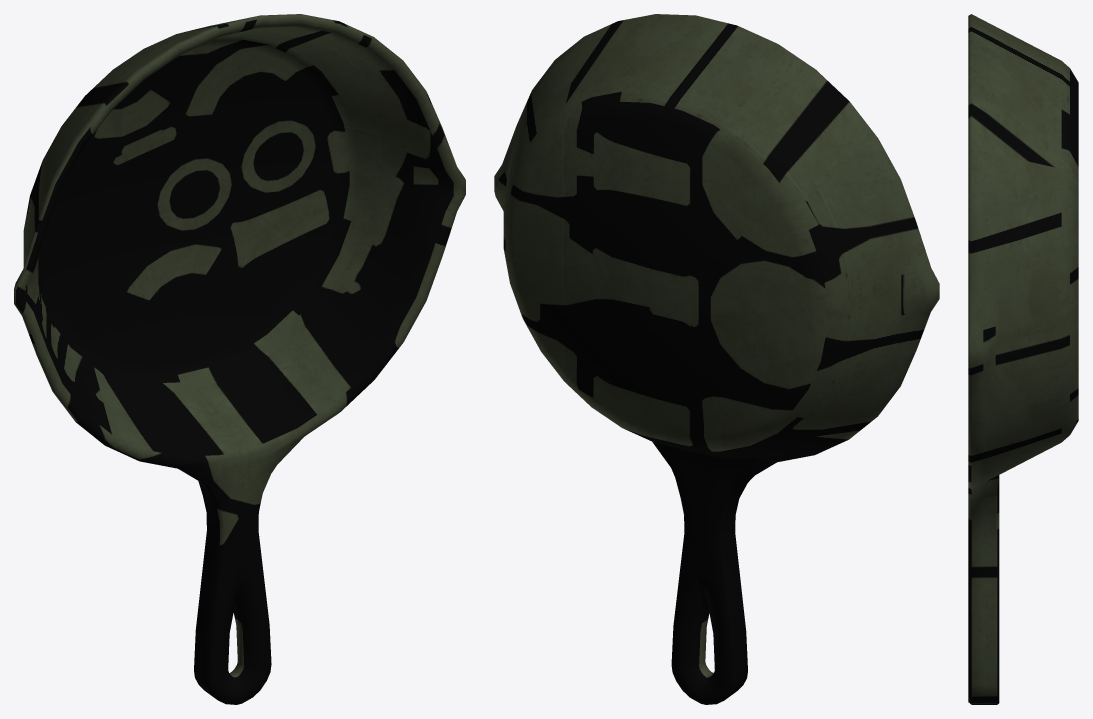
File: pan.fbx
3 views of the same model, side by side, from view 1: azimuth 30°, elevation 25°; view 2: azimuth 150°, elevation 25°; view 3: azimuth 270°, elevation 25° (orthographic). The views are drawn at different scales.
Visible parts, largest first — view 1: Object_4; view 2: Object_4; view 3: Object_4.
Boxes of the visible parts, bbox=[...] form: Object_4: bbox=[14, 14, 465, 704]; Object_4: bbox=[494, 14, 939, 704]; Object_4: bbox=[968, 14, 1078, 704].
Size of the model in its own units: 44.85 by 64.9 by 9.75.
